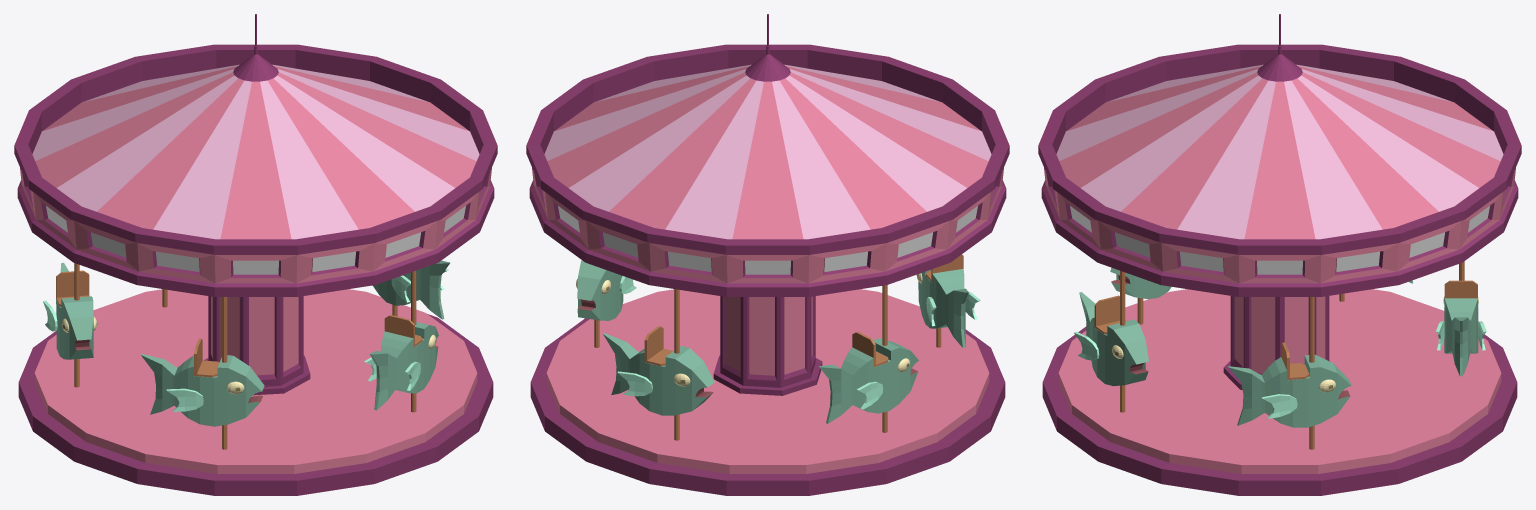
Rendered from DraaiMolenUNITY.fbx.
3 views of the same model, side by side, from view 1: azimuth 30°, elevation 25°; view 2: azimuth 150°, elevation 25°; view 3: azimuth 270°, elevation 25° (orthographic).
Parts seen in each view (by area): view 1: Cylinder.001, Cylinder, Plane.001, Cylinder.002, Cube.002, Cylinder.003, Plane.003, Cylinder.004; view 2: Cylinder.001, Cylinder, Plane.001, Cylinder.002, Cube.002, Cylinder.003, Plane.003, Cylinder.004; view 3: Cylinder.001, Cylinder, Plane.001, Cylinder.002, Cube.002, Cylinder.003, Plane.003, Cylinder.004.
Boxes of the visible parts, x1,y1,x2,y2 form: Cylinder.001: (14, 44, 497, 296); Cylinder: (18, 289, 493, 495); Plane.001: (56, 260, 449, 426); Cylinder.002: (203, 296, 310, 395); Cube.002: (56, 270, 422, 377); Cylinder.003: (74, 263, 416, 449); Plane.003: (43, 269, 448, 411); Cylinder.004: (233, 14, 278, 81); Cylinder.001: (526, 44, 1009, 296); Cylinder: (530, 289, 1005, 495); Plane.001: (577, 260, 968, 423); Cylinder.002: (713, 296, 822, 395); Cube.002: (644, 254, 963, 367); Cylinder.003: (594, 285, 941, 440); Plane.003: (617, 292, 980, 409); Cylinder.004: (745, 14, 790, 81); Cylinder.001: (1038, 44, 1521, 296); Cylinder: (1042, 289, 1517, 495); Plane.001: (1079, 267, 1478, 427); Cylinder.002: (1223, 296, 1329, 389); Cube.002: (1094, 280, 1477, 379); Cylinder.003: (1120, 261, 1464, 449); Plane.003: (1074, 321, 1486, 418); Cylinder.004: (1257, 14, 1302, 81).
Bounding box in the file's own units: 261 × 231 × 265.
